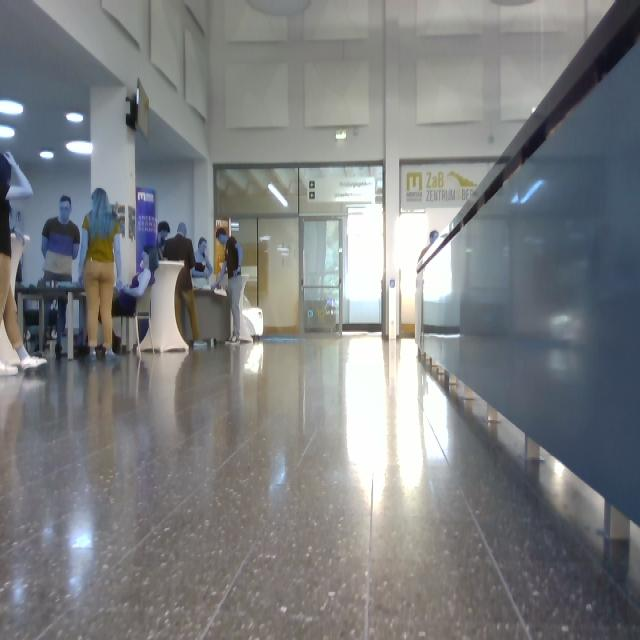desk: (195, 290, 231, 349), (183, 305, 194, 344)
door: (300, 220, 345, 333)
light bulb: (66, 141, 92, 156), (1, 101, 24, 116), (66, 113, 84, 124), (1, 126, 15, 138), (336, 129, 347, 141), (42, 153, 52, 157)
person: (113, 222, 214, 345), (1, 152, 45, 369), (80, 189, 120, 356), (43, 196, 80, 284), (216, 229, 242, 344), (217, 228, 240, 280), (419, 230, 439, 272), (57, 301, 67, 353)
staircase: (416, 1, 640, 541)
table: (141, 261, 188, 352)
tiled floor: (1, 336, 640, 640)
